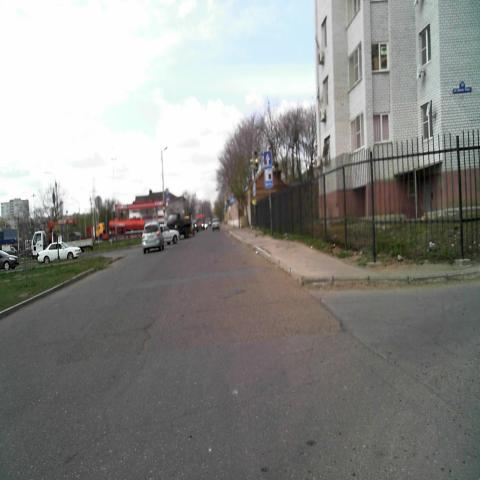5_6: (263, 151, 271, 167)
